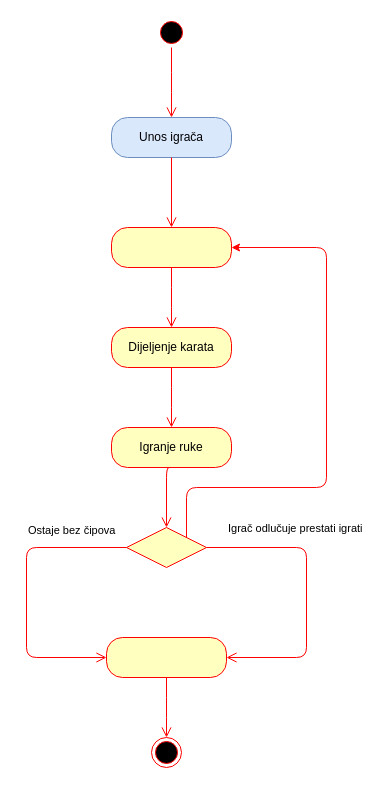
Some shapes in this 381 by 785 pixel diagram are drawn without their labels. Each missing label, with the centre of its shape:
Rezultat: the point at 166,657
Ulog: the point at 171,247
